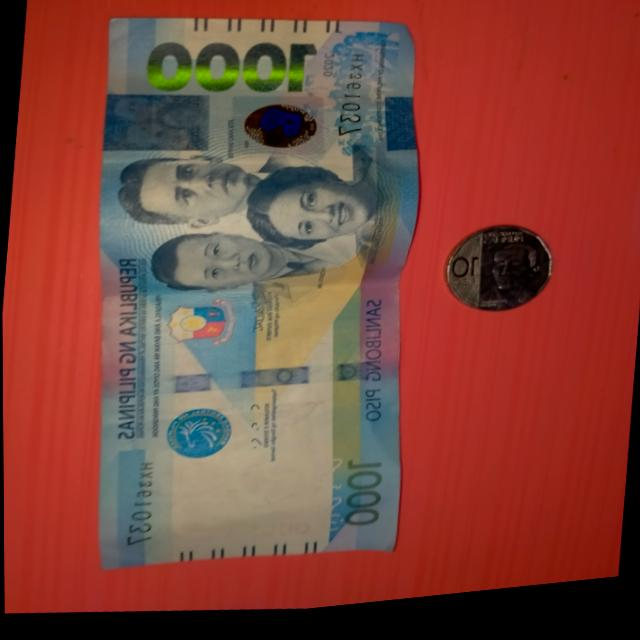concealed_value: (99, 90, 215, 164)
optically_variable_device: (225, 94, 333, 172)
see_through_mark: (301, 441, 355, 541)
